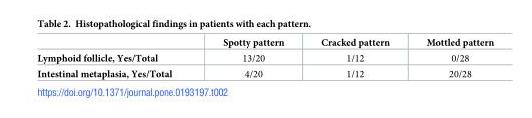table: (36, 37, 493, 78)
table column: (36, 37, 196, 78), (301, 37, 407, 78), (196, 37, 301, 78), (407, 37, 493, 78)
table column header: (36, 37, 493, 49)
table row: (36, 49, 493, 65), (36, 65, 493, 78), (36, 37, 493, 49)
